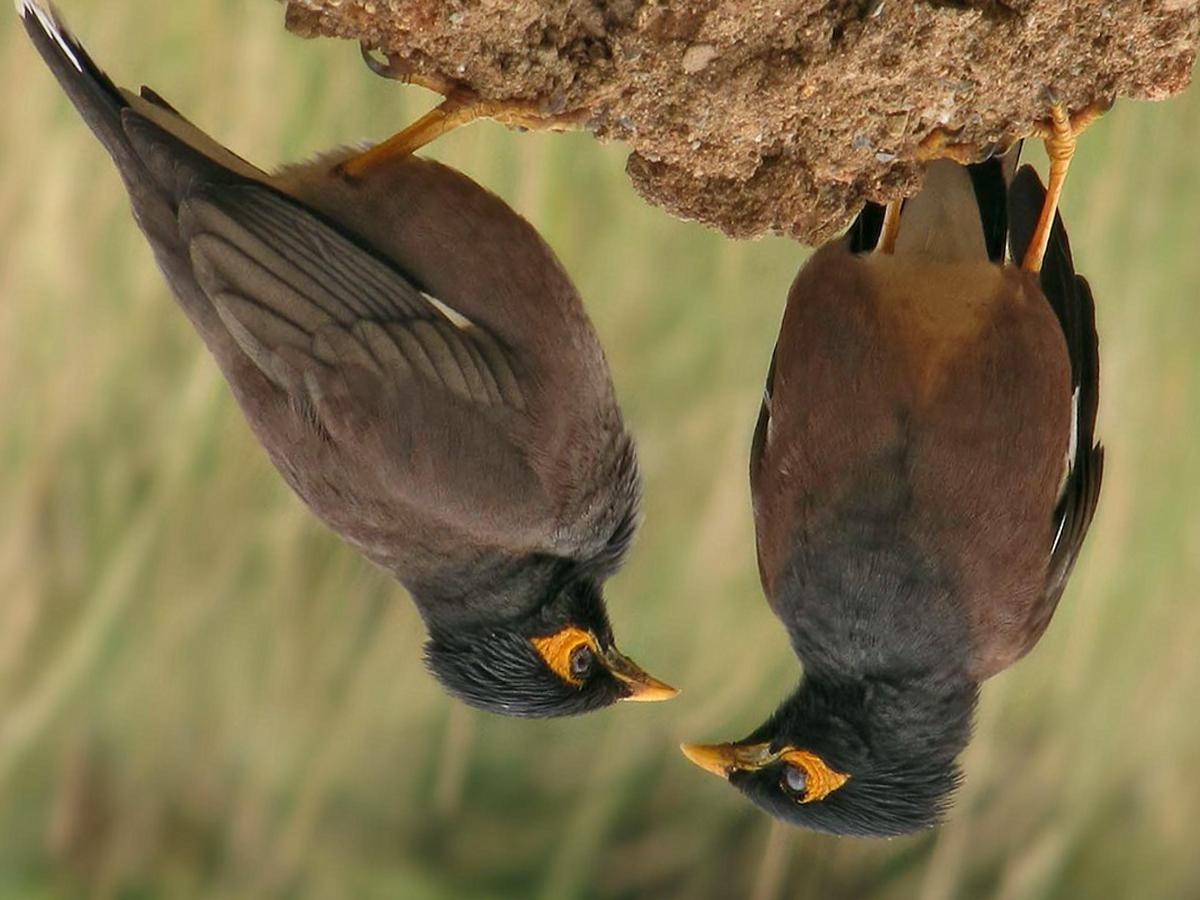myna: (119, 67, 684, 722), (674, 105, 1126, 831)
